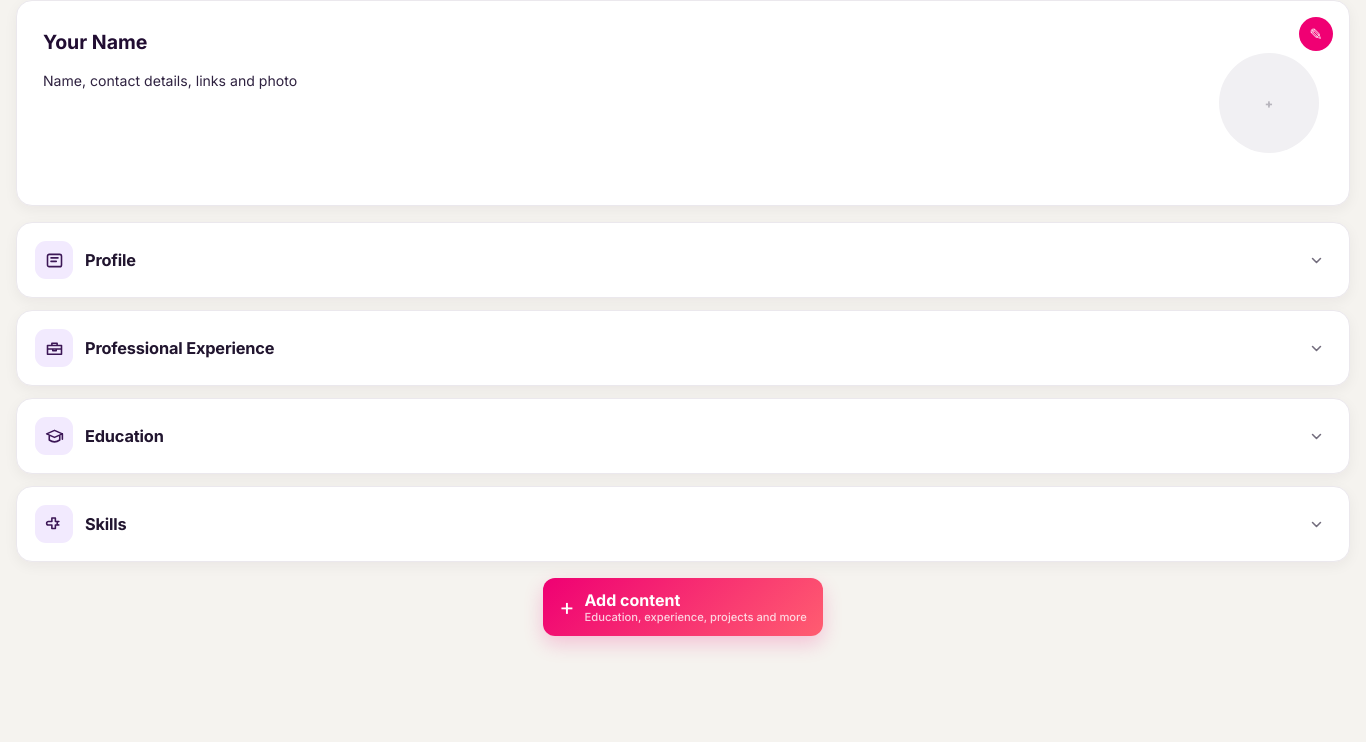
ContentEditor › keeps section cards minimal and expands them without mounting and unmounting their editing fields
The width and height of the screenshot is (1366, 742).
What coordinates should you click on to do the following:
click the button "Profile"
I would click on:
 (54, 260)
Its box is left=35, top=241, right=1331, bottom=279.
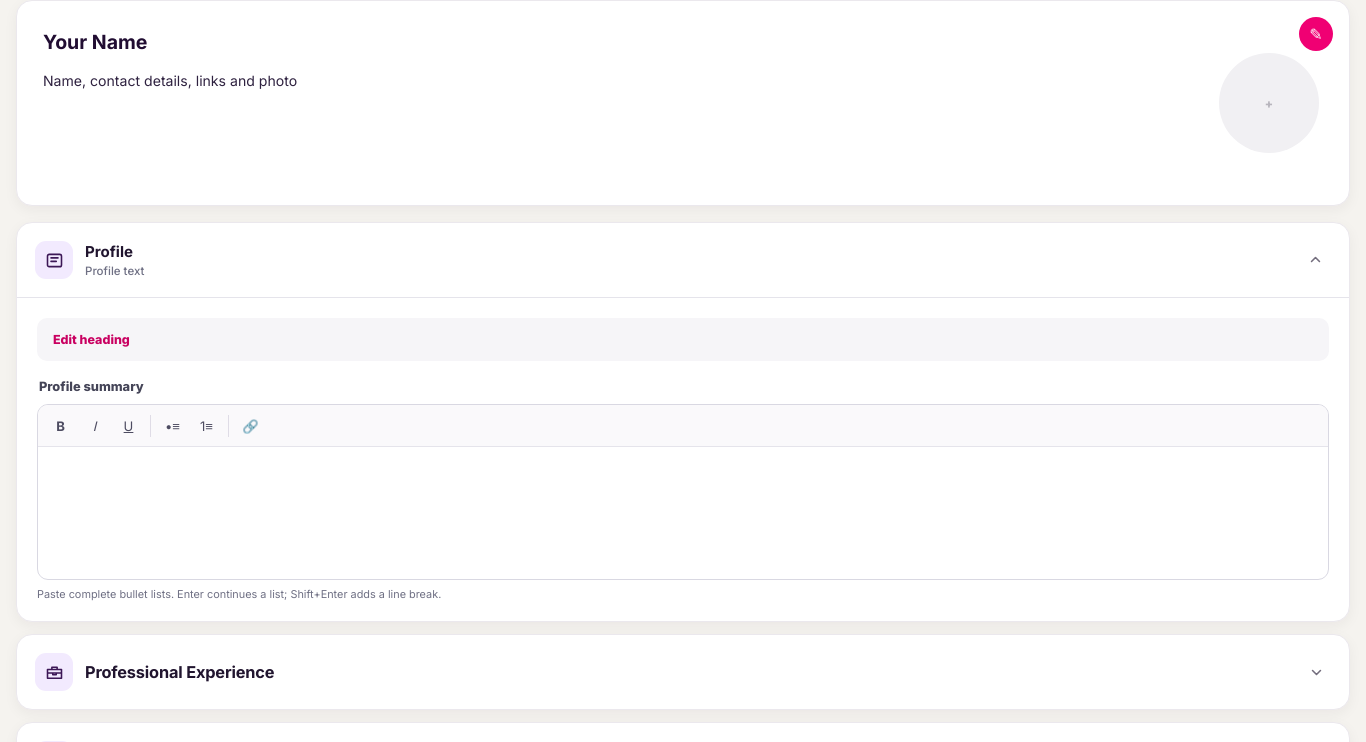
Expected: the button "Profile Profile text" is expanded, left=35, top=241, right=1331, bottom=279
